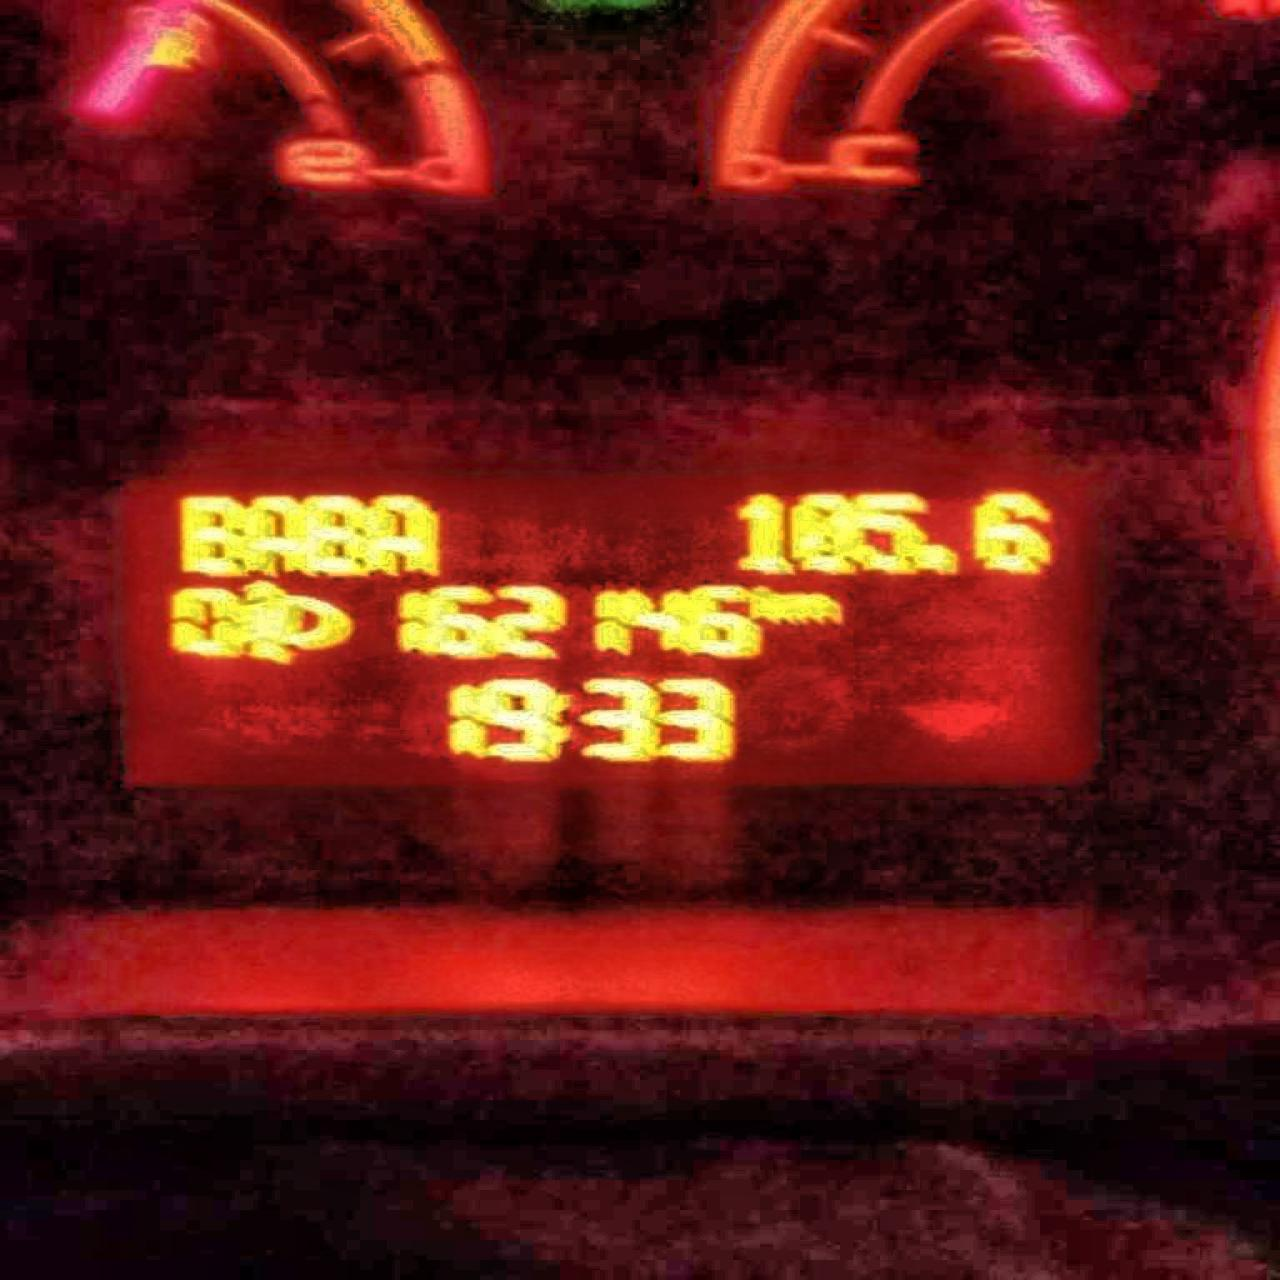-: (920, 542, 959, 576)
0: (166, 584, 240, 661), (789, 490, 853, 574)
1: (734, 490, 789, 576), (442, 681, 478, 758), (588, 586, 629, 654), (390, 587, 425, 656)
2: (492, 583, 568, 660)
3: (654, 676, 734, 762), (577, 674, 655, 761)
4: (628, 586, 689, 656)
5: (856, 491, 921, 577), (690, 583, 755, 659)
6: (971, 488, 1055, 577), (425, 584, 492, 660)
9: (479, 676, 553, 762)
X: (367, 492, 442, 577), (176, 491, 241, 577), (301, 491, 366, 577), (241, 492, 304, 577), (790, 587, 845, 626), (757, 584, 788, 625), (553, 690, 573, 745)
odometer: (107, 459, 1110, 794)
